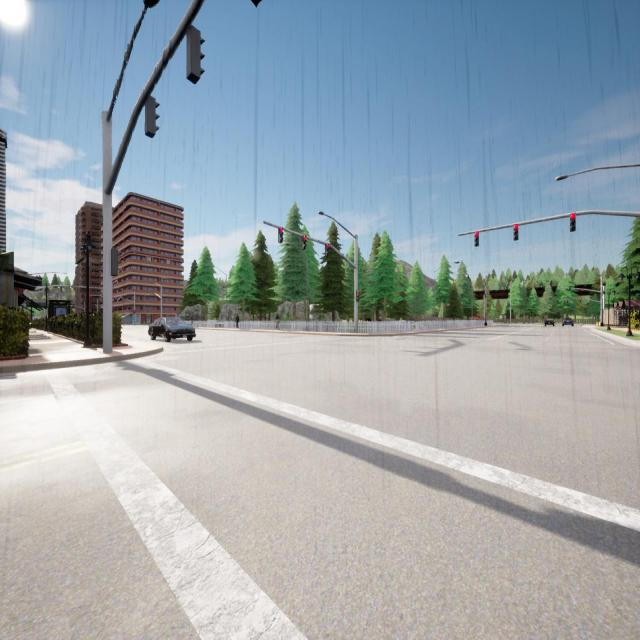Pedestrian: (275, 310, 281, 330), (235, 313, 240, 329), (191, 313, 194, 324)
Traffic_Signs: (499, 315, 502, 319)
Vehicle: (148, 317, 195, 341), (562, 318, 574, 327), (545, 318, 554, 326)
traffic_light: (187, 26, 205, 84), (146, 97, 160, 138), (111, 249, 118, 275), (570, 214, 576, 231), (278, 227, 283, 243), (302, 234, 306, 250), (514, 224, 518, 240), (475, 232, 479, 246), (326, 244, 330, 256), (356, 290, 359, 302), (114, 297, 118, 301), (89, 295, 92, 299), (100, 295, 102, 300), (134, 309, 136, 314), (567, 298, 568, 302), (580, 298, 581, 302), (558, 299, 558, 302)
